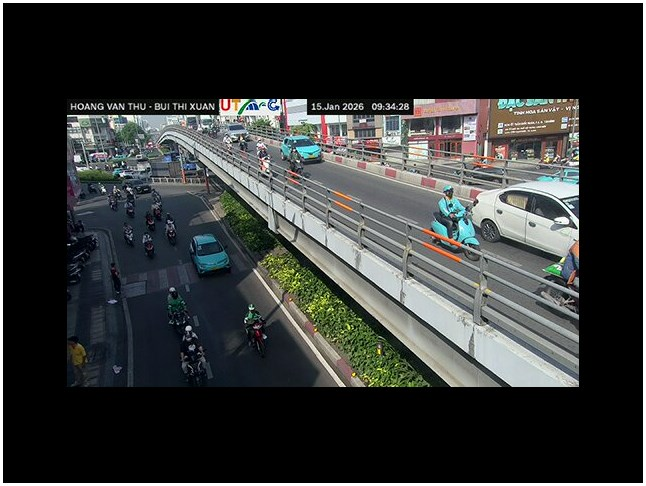car: (470, 183, 579, 259), (189, 231, 231, 276), (280, 135, 323, 166)
